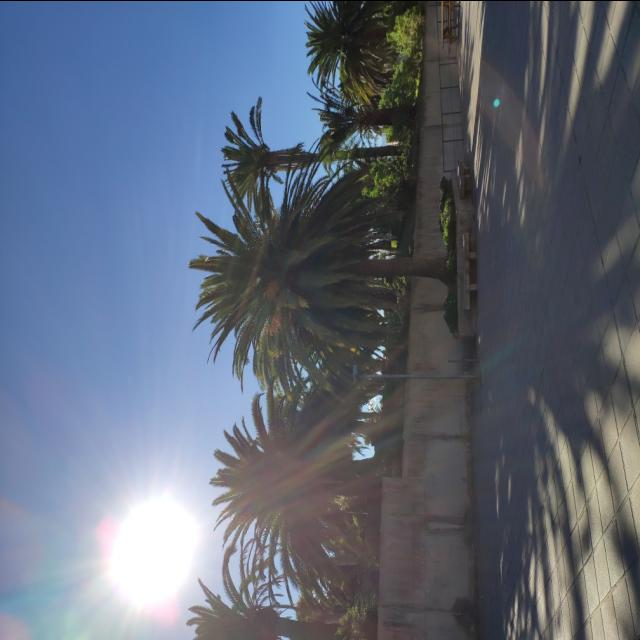Palm-Trees: (193, 186, 451, 360), (218, 390, 382, 556), (219, 103, 402, 211), (308, 0, 402, 84), (317, 81, 407, 153)
